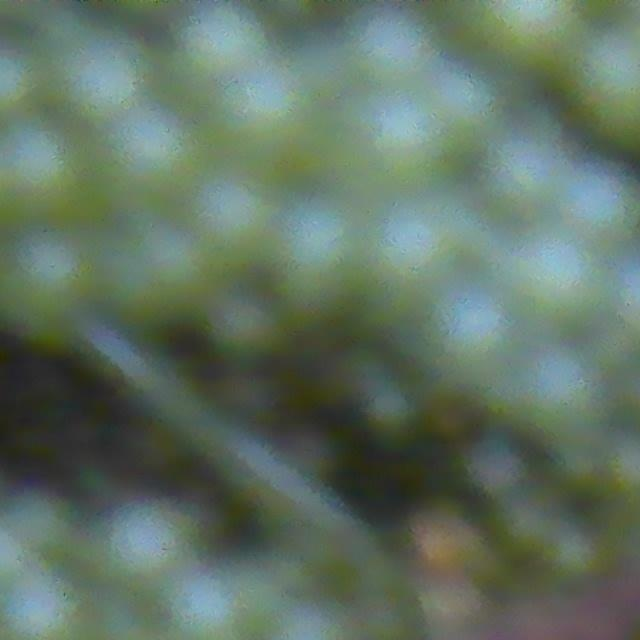SeaGrape: (100, 218, 218, 327), (272, 203, 368, 311), (211, 74, 313, 175), (166, 6, 272, 99), (345, 100, 437, 202), (98, 115, 194, 210), (10, 237, 97, 340), (45, 30, 139, 125), (100, 504, 199, 594), (364, 197, 458, 289), (427, 279, 518, 373), (480, 131, 573, 219), (513, 239, 604, 326), (472, 0, 576, 75), (520, 355, 606, 445), (198, 174, 283, 265), (572, 29, 640, 141), (0, 133, 83, 222), (345, 8, 429, 90), (205, 285, 286, 364), (0, 573, 92, 640), (159, 570, 245, 640), (563, 169, 640, 247), (424, 64, 499, 138), (461, 430, 532, 500)
